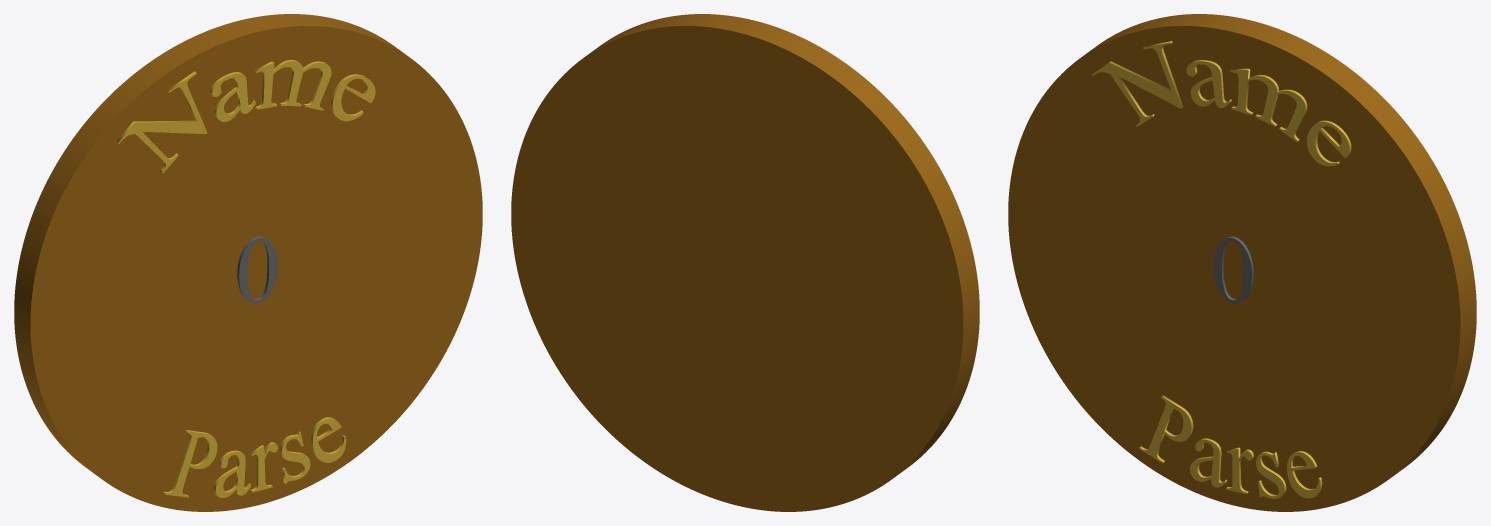
File: TestCoin.glb
The picture shows the model from 3 angles, left to right: view 1: azimuth 30°, elevation 25°; view 2: azimuth 150°, elevation 25°; view 3: azimuth 330°, elevation 25°; orthographic projection.
Parts seen in each view (by area): view 1: Cylinder, Name, Parse, Number; view 2: Cylinder; view 3: Cylinder, Name, Parse, Number.
Part boxes in pixels (x1,y1,x2,y2): Cylinder: [14, 14, 482, 511]; Name: [116, 59, 375, 173]; Parse: [163, 417, 346, 497]; Number: [237, 236, 277, 303]; Cylinder: [511, 14, 979, 511]; Cylinder: [1008, 14, 1476, 511]; Name: [1092, 41, 1351, 166]; Parse: [1139, 395, 1322, 498]; Number: [1213, 236, 1253, 303].
Size of the model in its own units: 2 by 2 by 0.1387.
